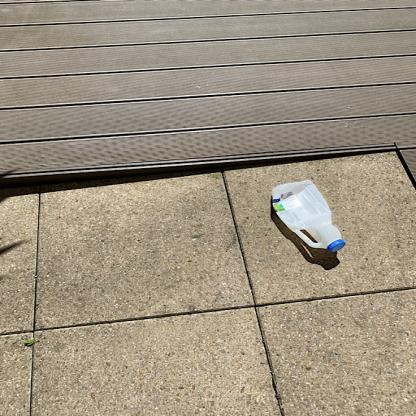trash: (268, 182, 349, 252)
